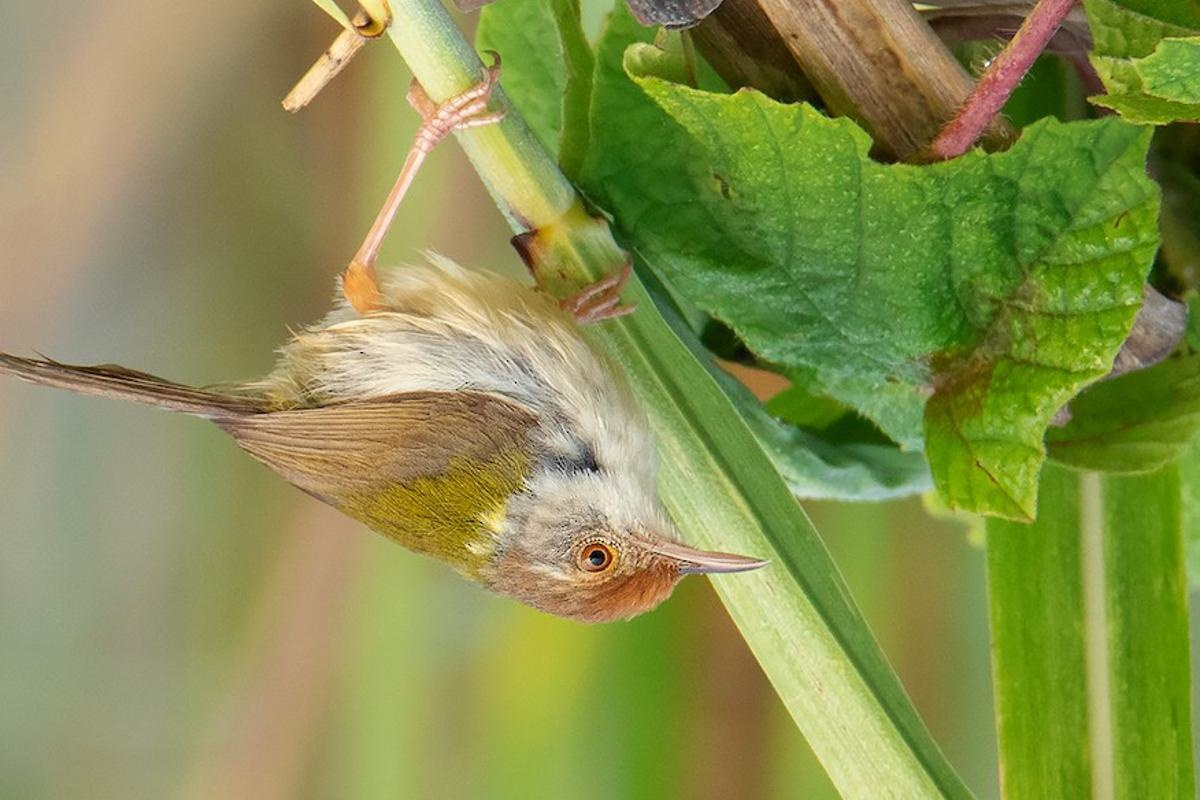tailorbird: (96, 181, 745, 632)
